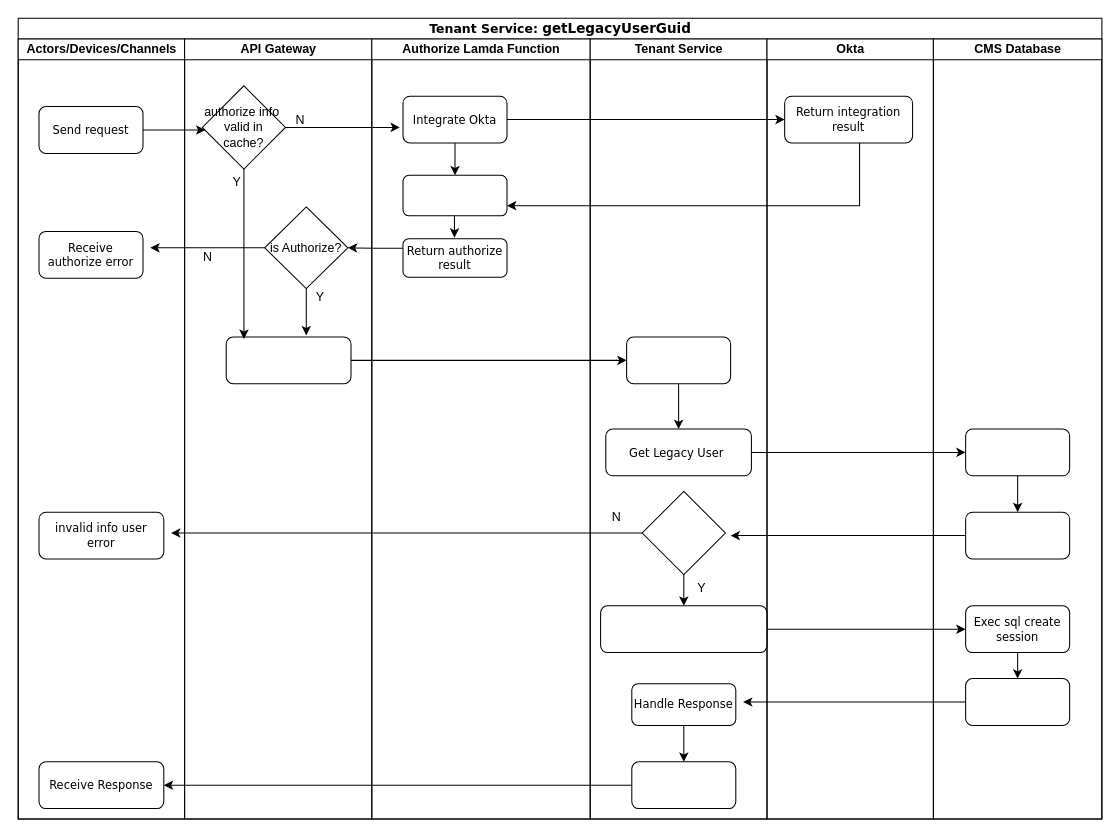
Image size: 1120x837. Some labels were removed from this diagram. Each missing label, with the centre of its shape:
"Create Record in table Session with userGuid" goes at [683,629].
"exec sql get legacy user" goes at [1017,452].
"Handle authorize" goes at [454,195].
"Handle input request" goes at [678,360].
"isExisting LegacyUser" goes at [683,532].
"Response" goes at [1017,701].
"Return Legacy User Data" goes at [1017,535].
"Return Result" goes at [683,785].
"route path, send request" goes at [288,360].
